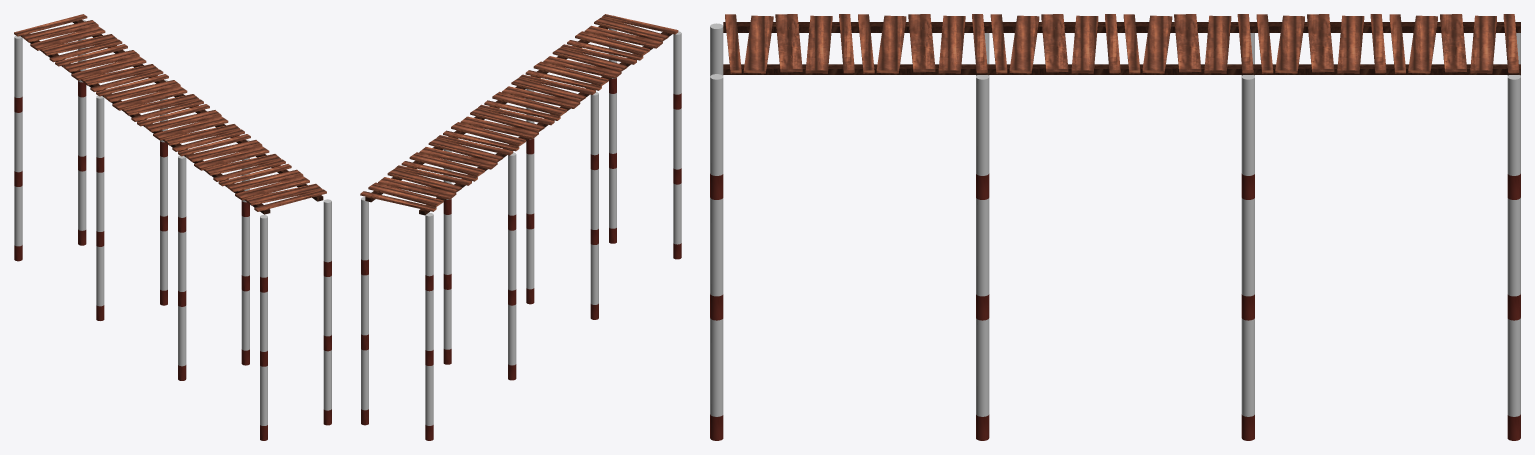
Rendered from dock.dae.
3 renders of one model, left to right at view 1: azimuth 30°, elevation 25°; view 2: azimuth 150°, elevation 25°; view 3: azimuth 270°, elevation 25°, orthographic. The views are drawn at different scales.
Parts seen in each view (by area): view 1: mergedBlocks; view 2: mergedBlocks; view 3: mergedBlocks.
Part boxes in pixels (bbox=[...]): mergedBlocks: bbox=[14, 14, 331, 440]; mergedBlocks: bbox=[360, 14, 681, 440]; mergedBlocks: bbox=[710, 14, 1520, 440].
Size of the model in its own units: 1.01 by 3.08 by 6.1.
Materials: 4 (3 with a texture image).
